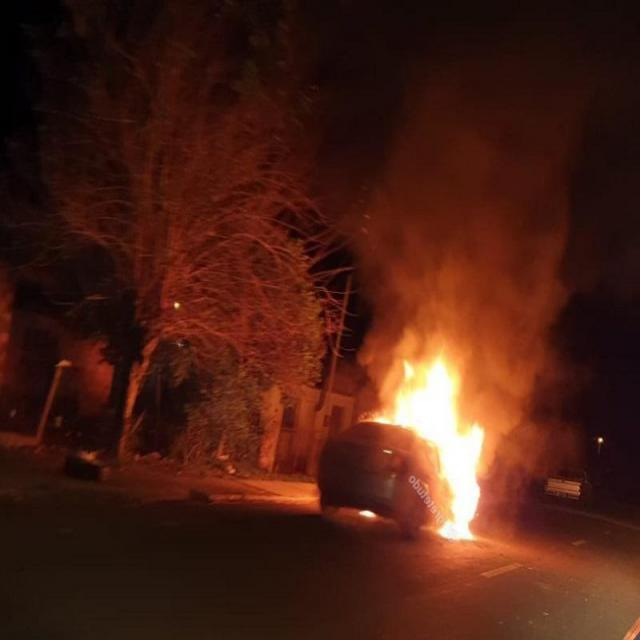Fire: (364, 345, 482, 537)
